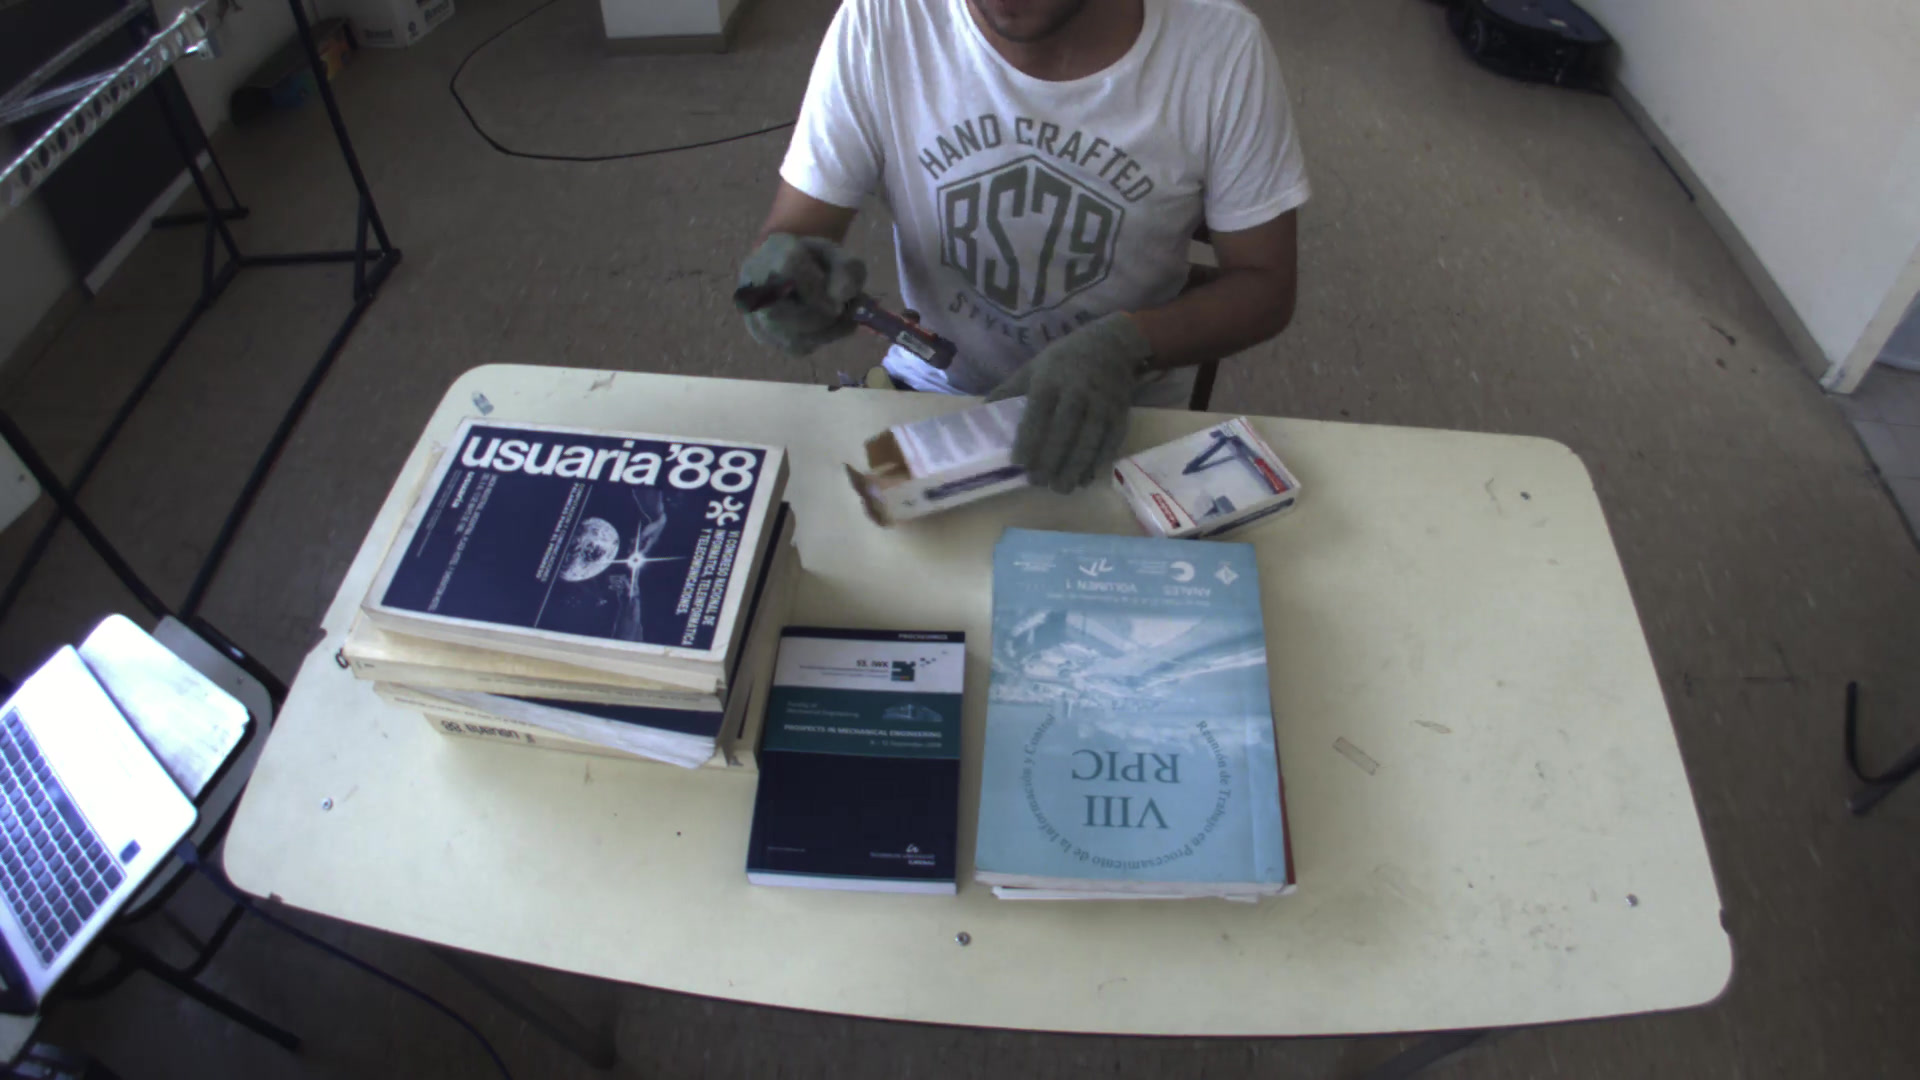hand: (1006, 305, 1155, 493), (725, 229, 880, 352)
